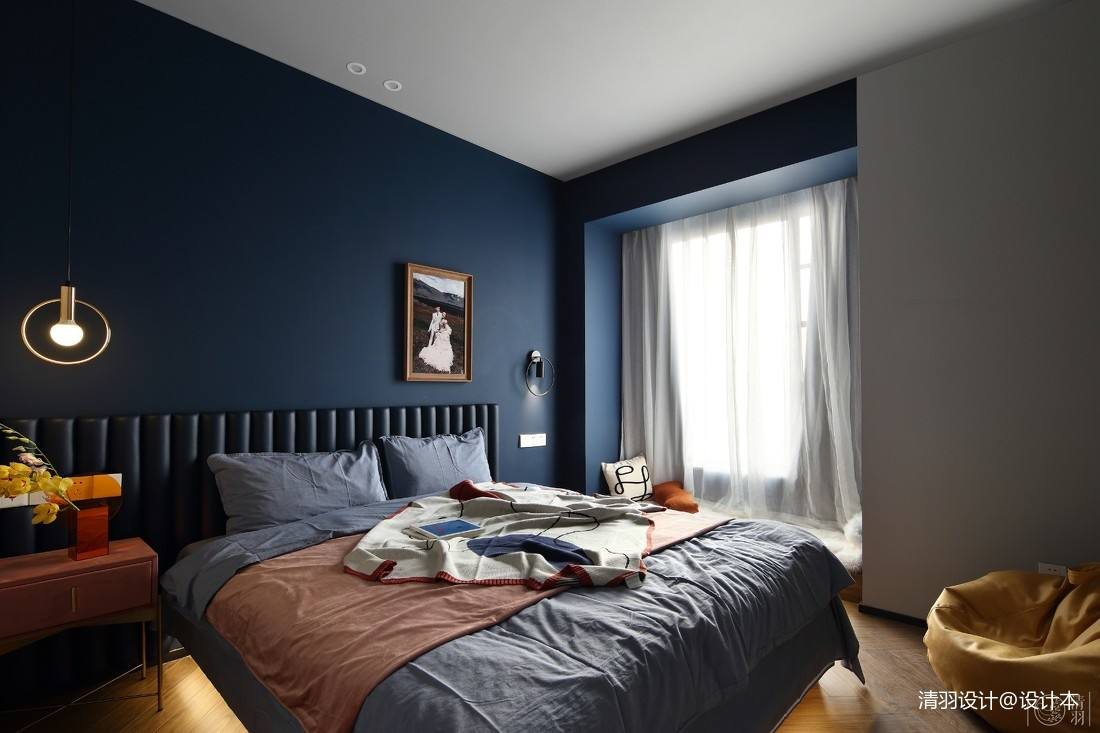床: (153, 490, 872, 733)
枕头: (216, 435, 479, 533), (602, 459, 700, 517)
灯: (12, 285, 112, 373), (515, 343, 565, 409), (339, 59, 367, 80), (376, 75, 403, 95)
